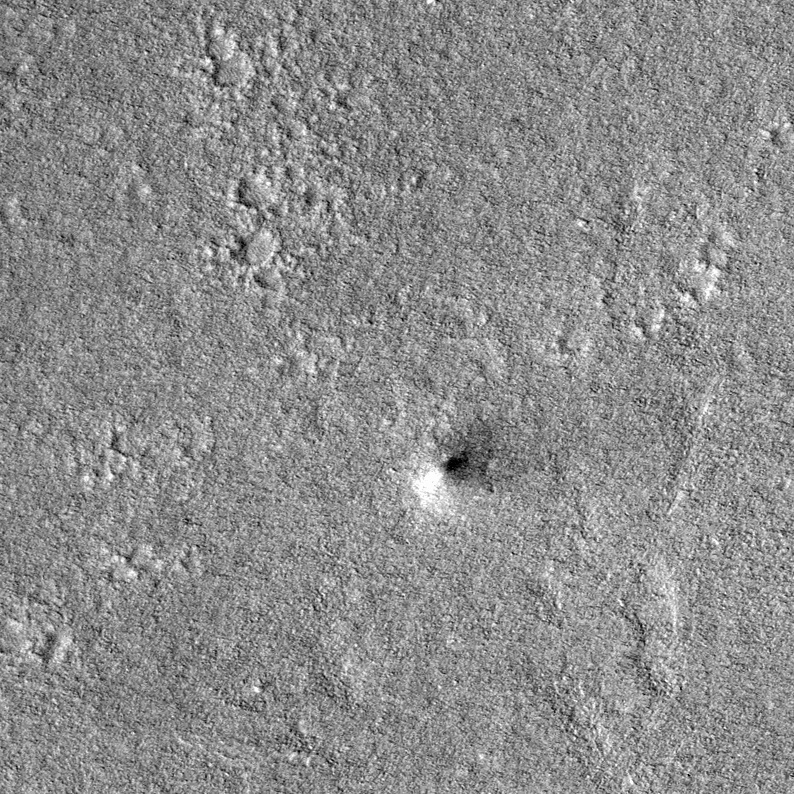dust_devil: (412, 413, 517, 514)
